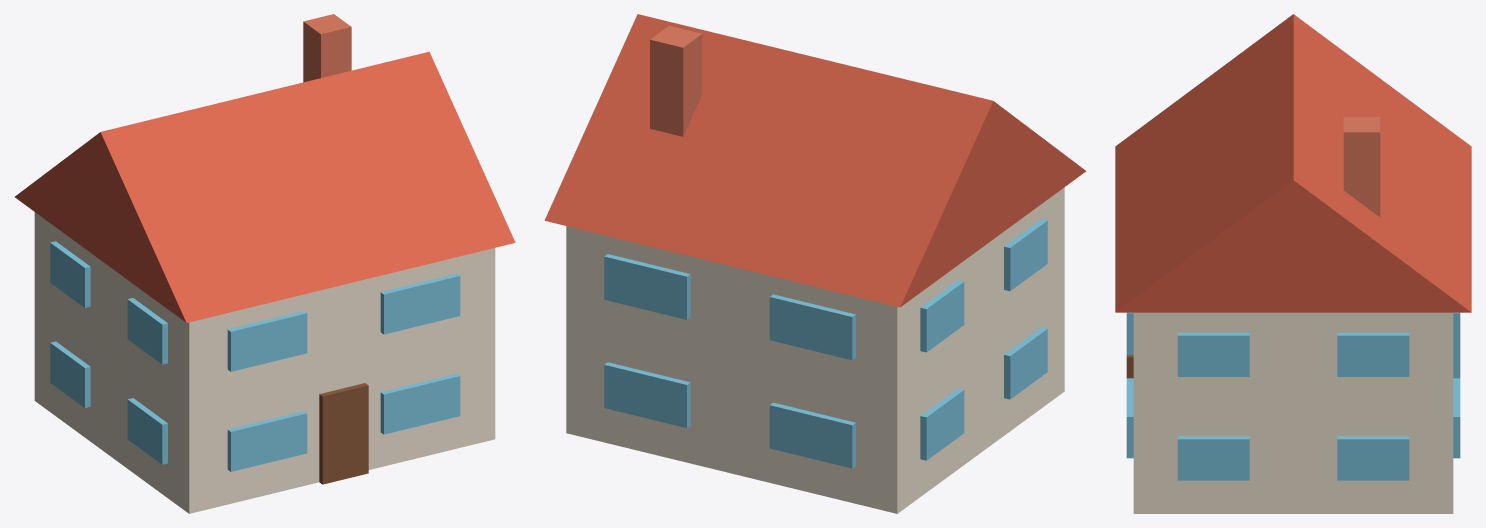
The model's file is house.glb.
3 views of the same model, side by side, from view 1: azimuth 30°, elevation 25°; view 2: azimuth 150°, elevation 25°; view 3: azimuth 270°, elevation 25° (orthographic). The views are drawn at different scales.
Visible parts, largest first — view 1: house_roof_red, house_wall_cream, house_window, house_door, house_brick; view 2: house_roof_red, house_wall_cream, house_window, house_brick; view 3: house_roof_red, house_wall_cream, house_window, house_brick.
Boxes of the visible parts, <box> form: house_roof_red: <box>15,51,515,322</box>; house_wall_cream: <box>34,212,495,513</box>; house_window: <box>50,241,460,471</box>; house_door: <box>319,383,368,484</box>; house_brick: <box>303,14,351,82</box>; house_roof_red: <box>544,14,1086,307</box>; house_wall_cream: <box>566,187,1064,513</box>; house_window: <box>604,219,1047,468</box>; house_brick: <box>650,25,702,136</box>; house_roof_red: <box>1115,14,1471,312</box>; house_wall_cream: <box>1133,312,1453,513</box>; house_window: <box>1126,312,1460,480</box>; house_brick: <box>1343,117,1380,217</box>.
Bounding box in the file's own units: 8.6 × 8.7 × 7.8.
